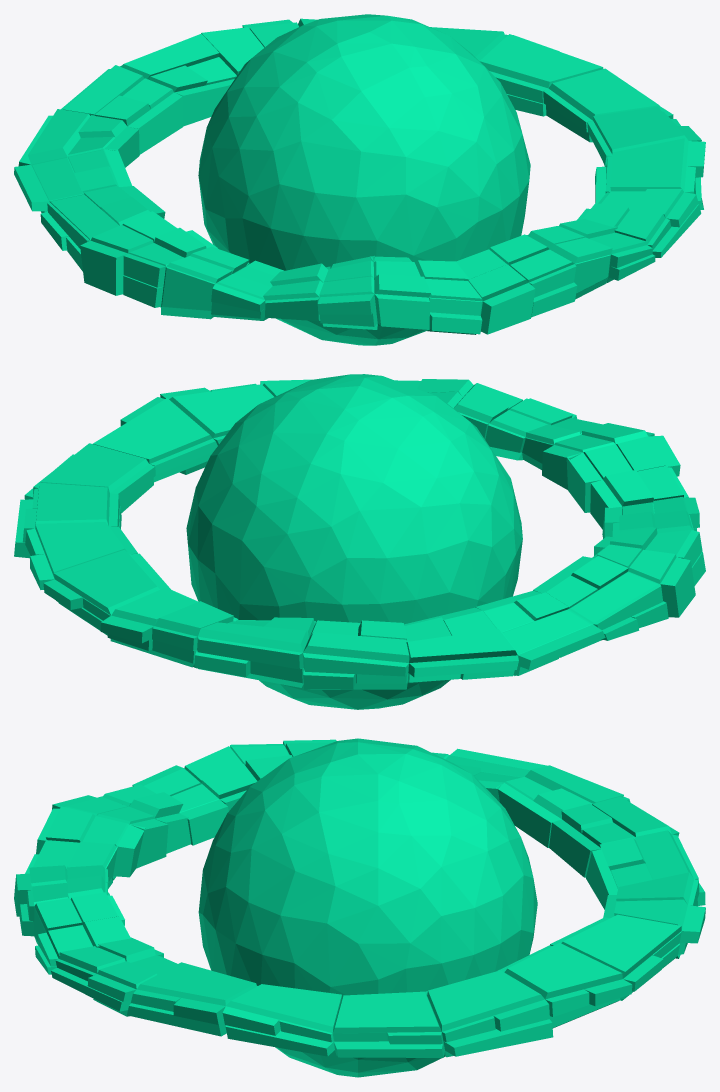
File: Planet_8.FBX
3 views of the same model, one above another, from view 1: azimuth 30°, elevation 25°; view 2: azimuth 150°, elevation 25°; view 3: azimuth 270°, elevation 25° (orthographic).
Visible parts, largest first — view 1: Planet_8_Ring, Planet_8; view 2: Planet_8_Ring, Planet_8; view 3: Planet_8_Ring, Planet_8.
Part boxes in pixels (x1,y1,x2,y2): Planet_8_Ring: (14, 18, 705, 334); Planet_8: (198, 14, 530, 345); Planet_8_Ring: (14, 379, 705, 689); Planet_8: (186, 374, 522, 709); Planet_8_Ring: (14, 739, 705, 1057); Planet_8: (198, 738, 537, 1077).
Size of the model in its own units: 199 by 96.68 by 197.
